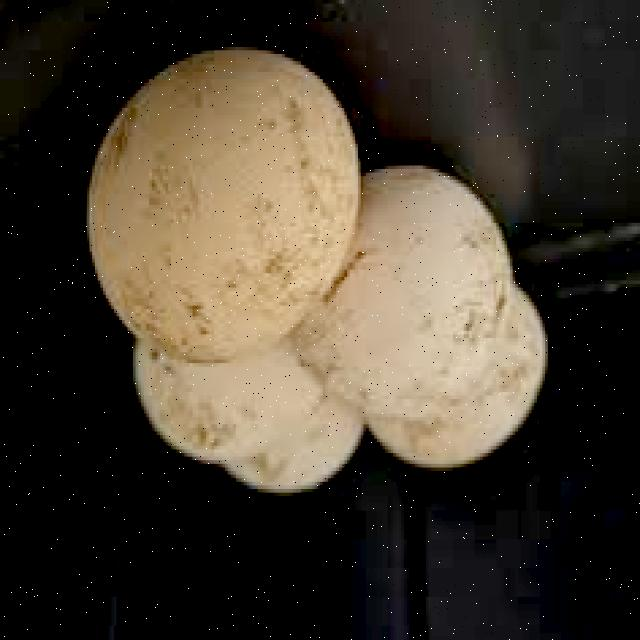Calcium Deposit Egg: (78, 52, 359, 372), (327, 173, 540, 436)
